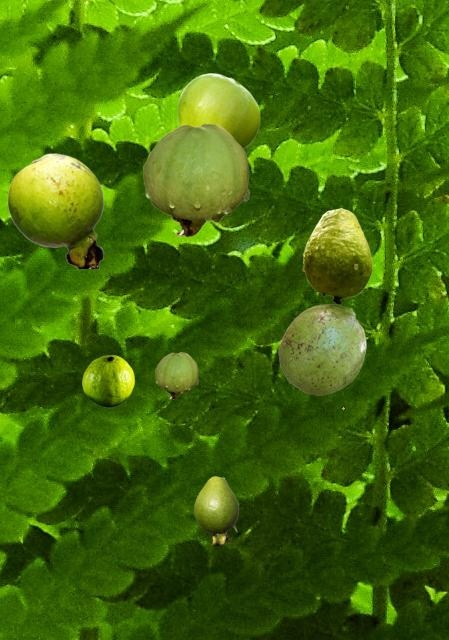guava: (143, 123, 248, 236), (7, 153, 103, 267), (278, 304, 365, 394), (302, 208, 371, 303), (177, 73, 259, 148), (194, 476, 237, 544), (82, 355, 133, 406), (155, 352, 197, 398)
